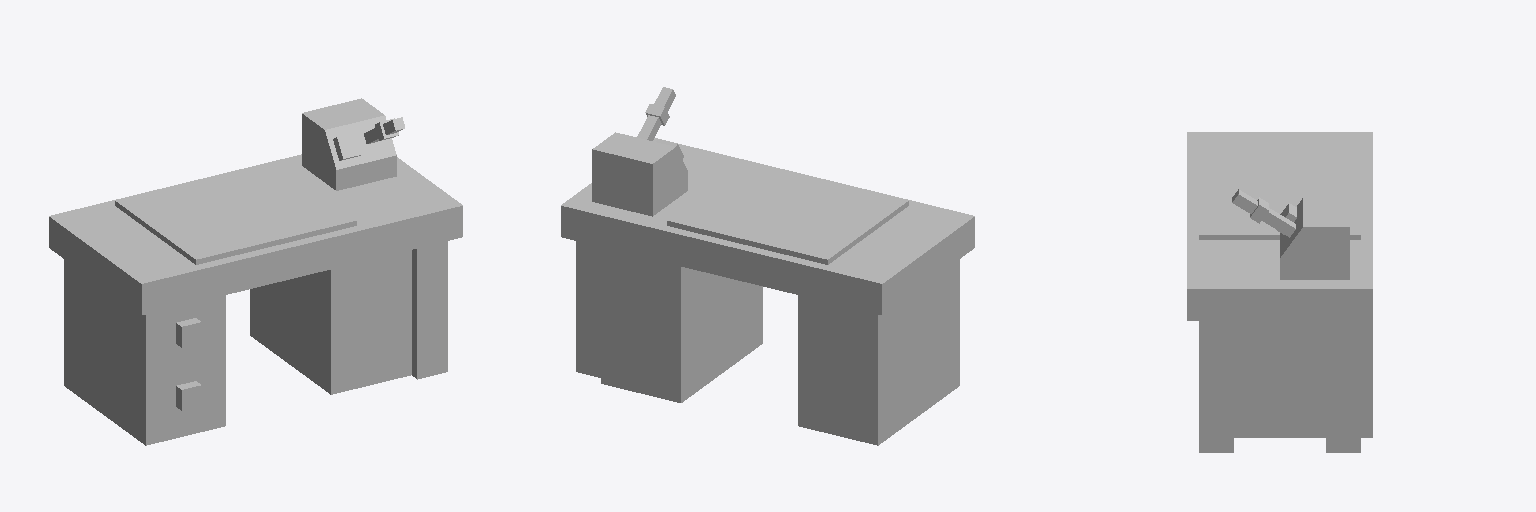
The model's file is circuit_table.obj.
3 renders of one model, left to right at view 1: azimuth 30°, elevation 25°; view 2: azimuth 150°, elevation 25°; view 3: azimuth 270°, elevation 25°, orthographic.
Visible parts, largest first — view 1: desk; view 2: desk; view 3: desk.
Boxes of the visible parts, x1=… form: desk: x1=49, y1=98, x2=462, y2=445; desk: x1=561, y1=87, x2=974, y2=445; desk: x1=1187, y1=132, x2=1372, y2=452.
Size of the model in its own units: 2 by 1.46 by 1.